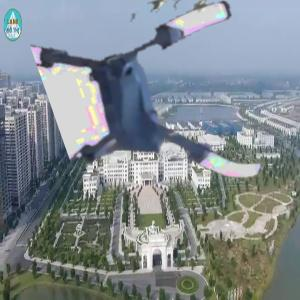drone: (59, 3, 271, 215)
